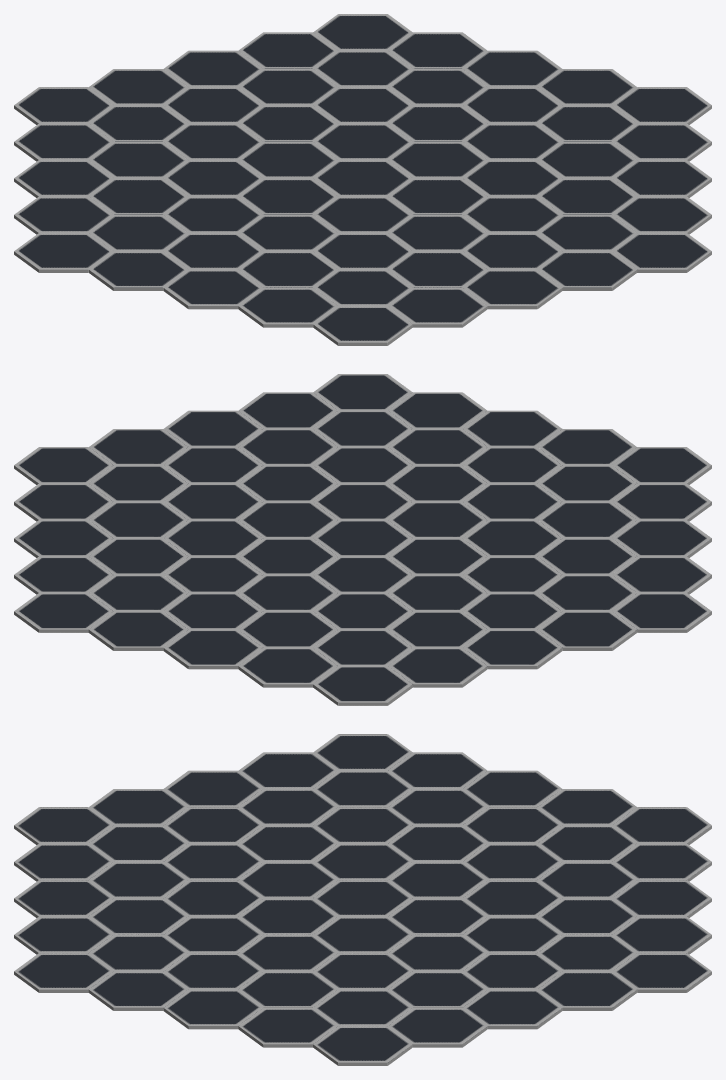
File: stagemodel1.fbx
3 views of the same model, one above another, from view 1: azimuth 30°, elevation 25°; view 2: azimuth 150°, elevation 25°; view 3: azimuth 270°, elevation 25° (orthographic).
Parts seen in each view (by area): view 1: 円.023, 円.030, 円.019, 円.022, 円.025, 円.031, 円.013, 円.017, 円.034, 円.012, 円.002, 円 (+49 smaller); view 2: 円, 円.049, 円.002, 円.005, 円.035, 円.012, 円.050, 円.013, 円.056, 円.023, 円.022, 円.017 (+49 smaller); view 3: 円.060, 円.043, 円.058, 円.055, 円.042, 円.057, 円.034, 円.056, 円.059, 円.031, 円.025, 円.050 (+49 smaller).
Boxes of the visible parts, x1,y1,x2,y2 form: 円.023: (313,306,412,345); 円.030: (463,269,562,309); 円.019: (163,269,262,309); 円.022: (238,287,337,327); 円.025: (388,287,487,327); 円.031: (538,251,637,290); 円.013: (14,233,113,272); 円.017: (88,251,187,290); 円.034: (612,233,711,272); 円.012: (14,196,113,234); 円.002: (14,123,113,161); 円: (14,87,113,124); 円: (313,666,412,705); 円.049: (163,629,262,669); 円.002: (388,647,487,687); 円.005: (463,629,562,669); 円.035: (238,647,337,687); 円.012: (537,611,637,650); 円.050: (88,611,187,650); 円.013: (612,593,711,632); 円.056: (14,593,113,632); 円.023: (612,447,711,484); 円.022: (612,483,711,521); 円.017: (612,556,711,594); 円.060: (313,1026,412,1065); 円.043: (163,989,262,1029); 円.058: (463,989,562,1029); 円.055: (238,1008,337,1047); 円.042: (88,971,187,1010); 円.057: (538,971,637,1010); 円.034: (14,953,113,992); 円.056: (612,953,711,992); 円.059: (388,1008,487,1047); 円.031: (14,916,113,954); 円.025: (14,843,113,881); 円.050: (612,916,711,954).
Size of the model in its own units: 1559 by 7.34 by 1400.
